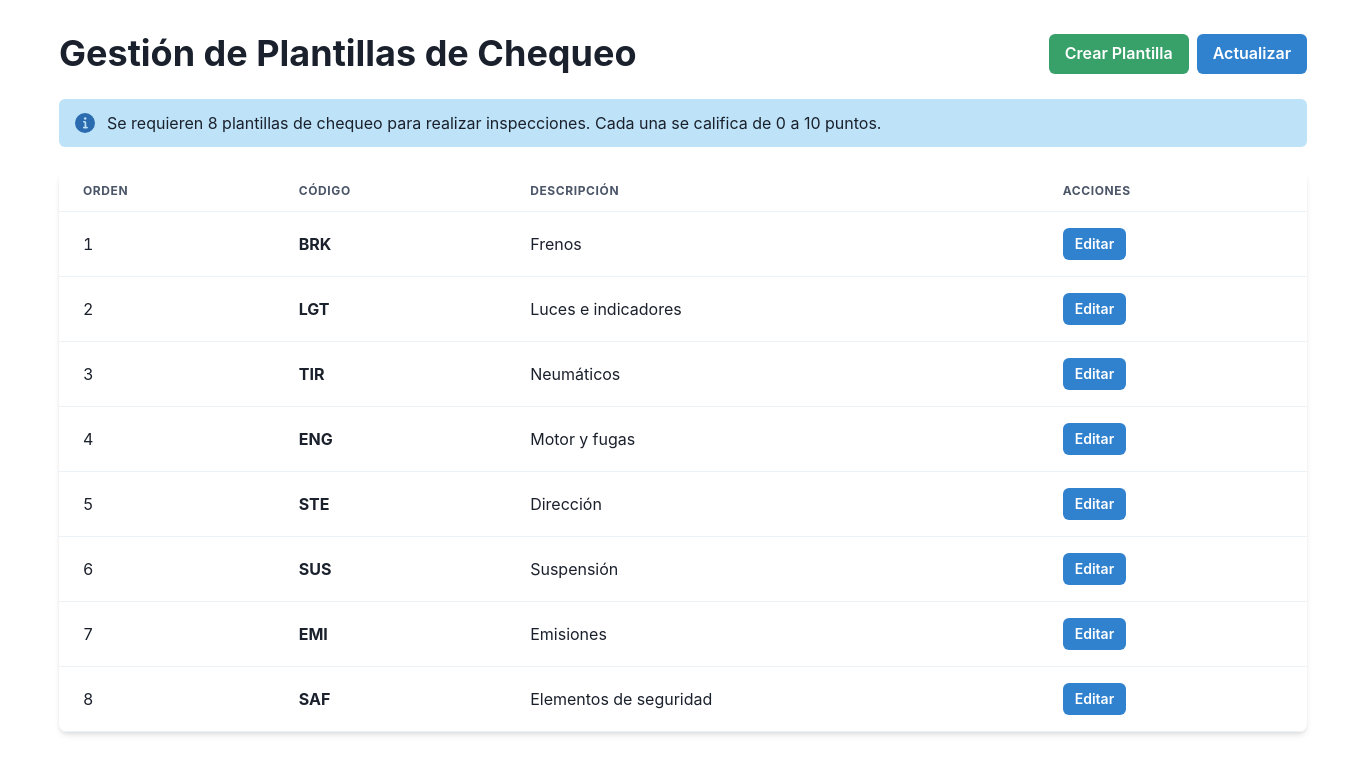
Scenario: CheckItemManagementPage › create template › should open create modal when clicking create button
The width and height of the screenshot is (1366, 759).
Expected: the text "BRK" is shown, 275,212 -> 506,277
Click the button "Crear Plantilla" at (1119, 54), box 1049,34 -> 1189,74
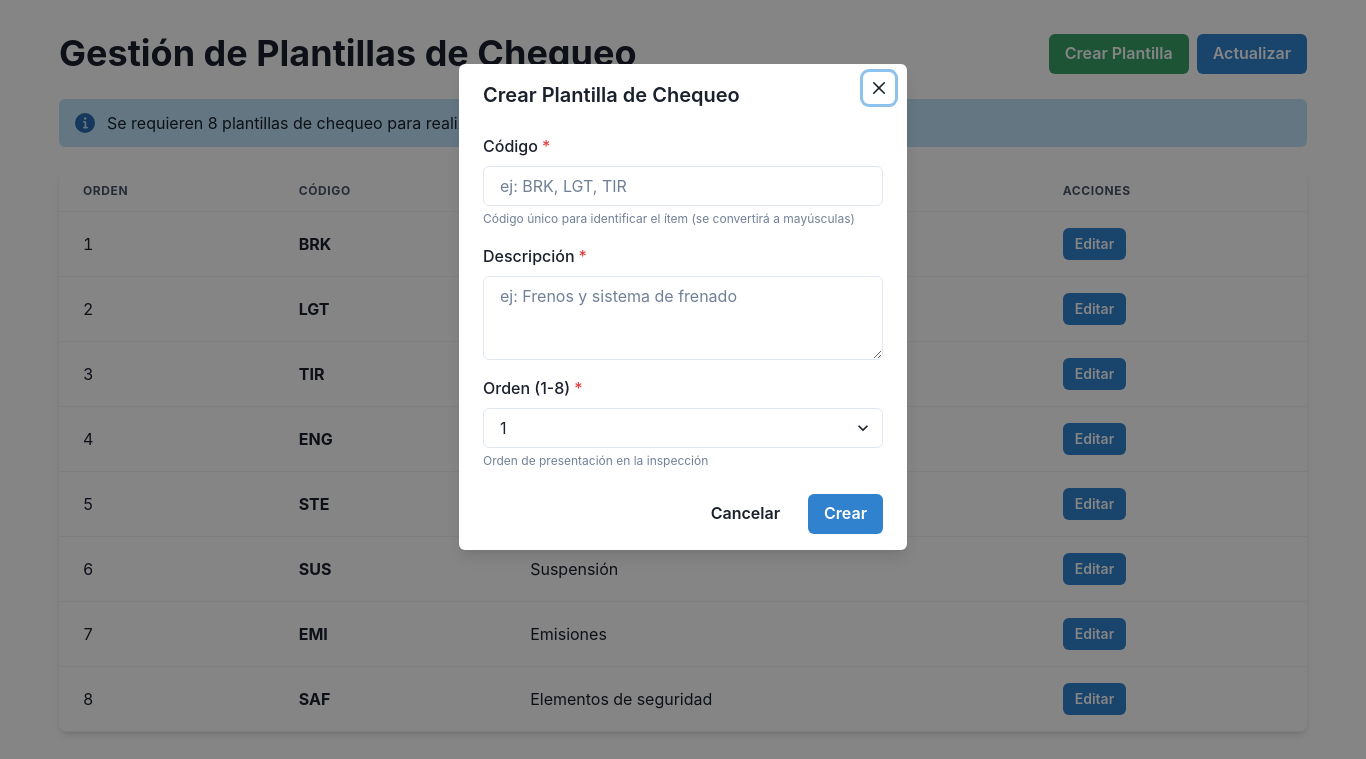
Expected: the text "Crear Plantilla de Chequeo" is shown, 483,83 -> 740,107
Expected: the field labelled "Código*" is shown, 483,166 -> 883,206
Expected: the text box labelled "Descripción*" is shown, 483,276 -> 883,360
